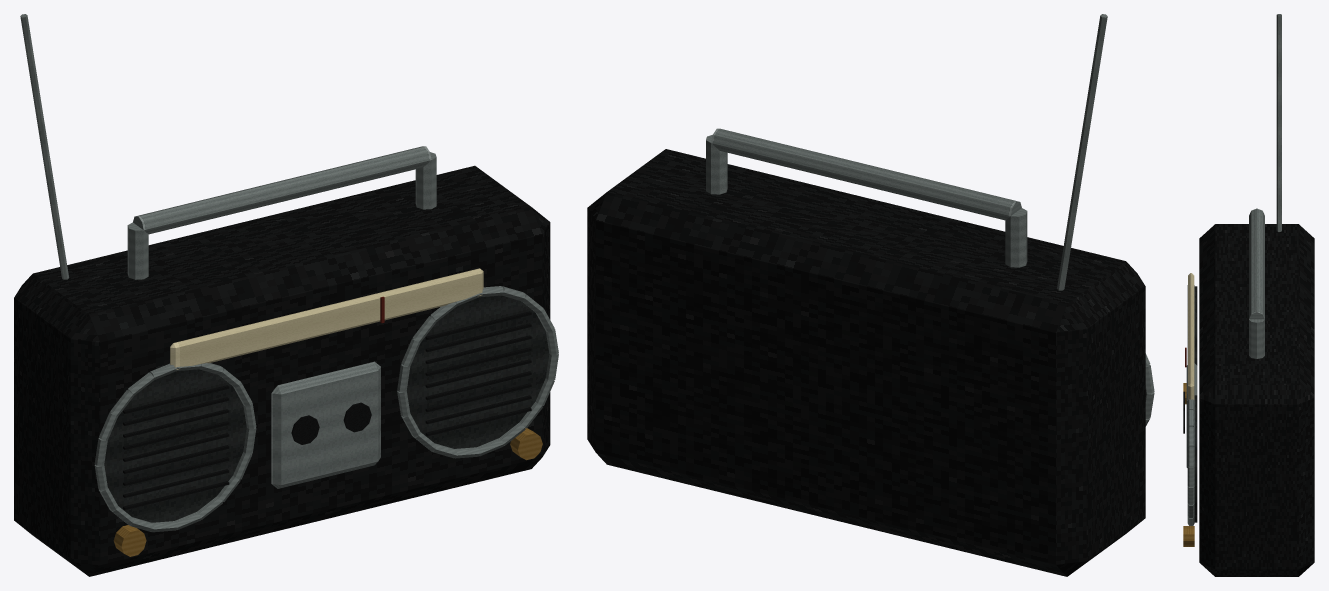
Rendered from level_event_boom_box.glb.
3 renders of one model, left to right at view 1: azimuth 30°, elevation 25°; view 2: azimuth 150°, elevation 25°; view 3: azimuth 270°, elevation 25°, orthographic. The views are drawn at different scales.
Visible parts, largest first — view 1: level_event_boom_box; view 2: level_event_boom_box; view 3: level_event_boom_box.
Boxes of the visible parts, box(x1,y1,x2,y2) form: level_event_boom_box: box(14, 14, 558, 576); level_event_boom_box: box(587, 14, 1154, 576); level_event_boom_box: box(1183, 14, 1314, 576).
Size of the model in its own units: 0.4658 by 0.4904 by 0.148.
6 materials, 6 textured.
